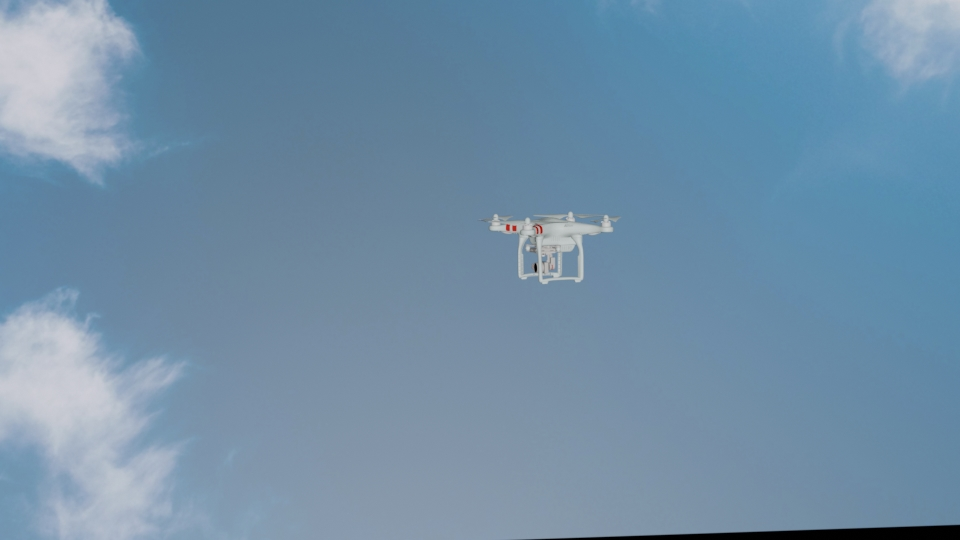drone: (477, 206, 622, 286)
